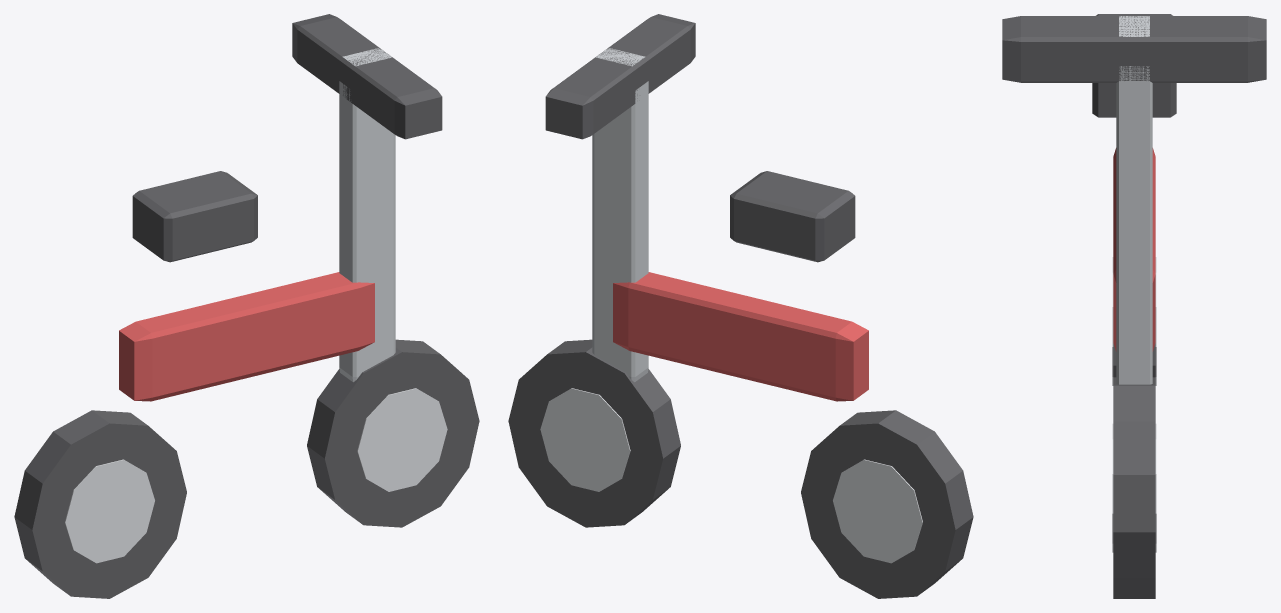
The model's file is b03_folding_kick_scooter.glb.
3 renders of one model, left to right at view 1: azimuth 30°, elevation 25°; view 2: azimuth 150°, elevation 25°; view 3: azimuth 270°, elevation 25°, orthographic. The views are drawn at different scales.
Visible parts, largest first — view 1: b03_folding_kick_scooter; view 2: b03_folding_kick_scooter; view 3: b03_folding_kick_scooter.
Boxes of the visible parts, <box> form: b03_folding_kick_scooter: <box>14,14,479,598</box>; b03_folding_kick_scooter: <box>508,14,973,598</box>; b03_folding_kick_scooter: <box>1002,14,1266,598</box>.
Bounding box in the file's own units: 1.07 × 1.08 × 0.47.
